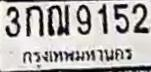1: (98, 4, 107, 34)
2: (132, 3, 148, 33)
3: (4, 6, 20, 37)
5: (114, 3, 129, 33)
9: (77, 4, 92, 35)
A01: (25, 5, 43, 37)
A12: (46, 4, 70, 36)
BKK: (18, 47, 134, 65)
